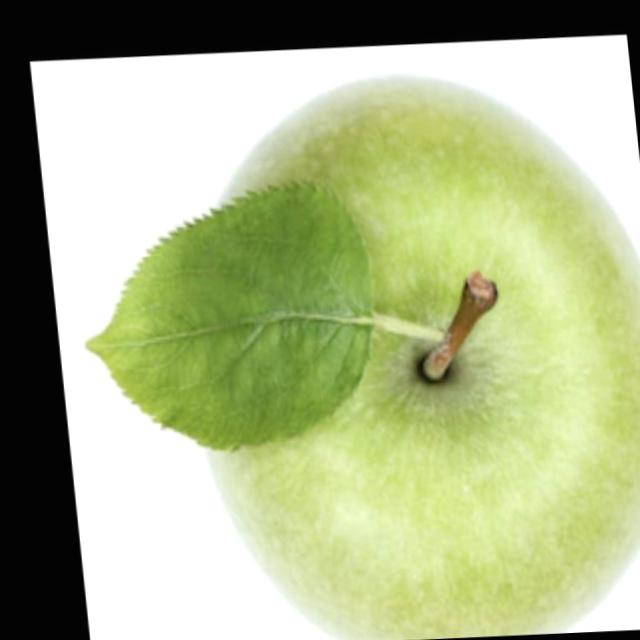Orange: (55, 57, 640, 640)
